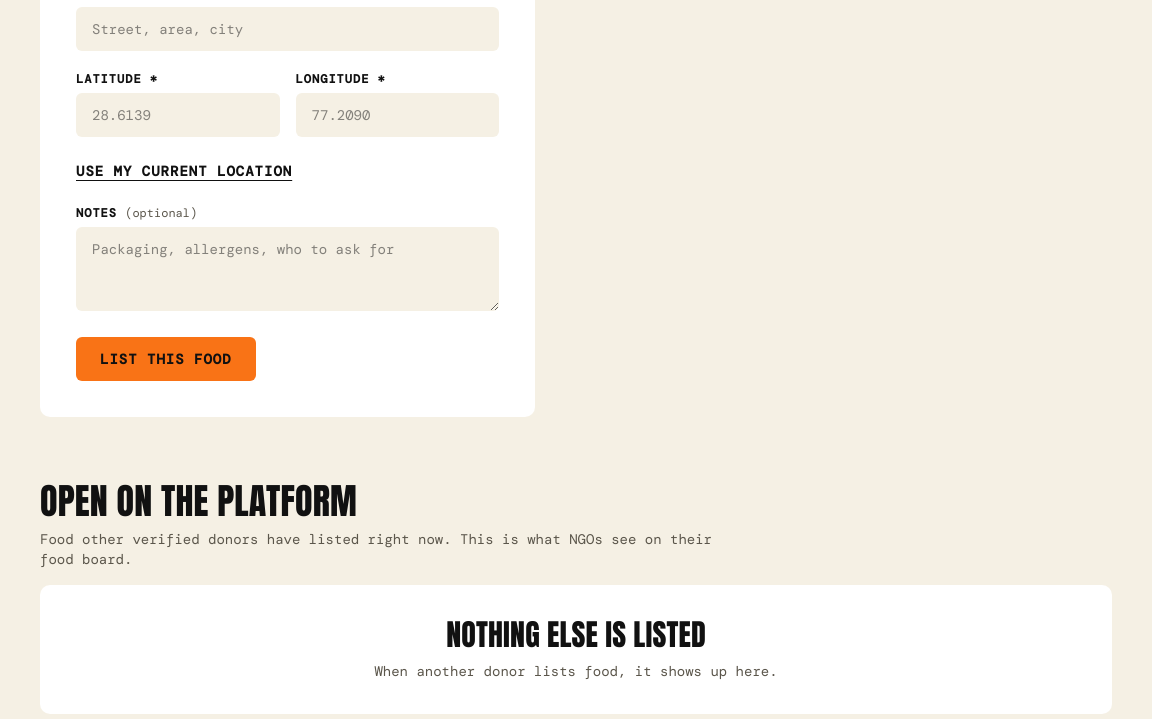
Test: creating a listing › blocks submission and explains what is missing
(page scrolled)
Click the button "List this food". click: x=166, y=359
box: [76,337,256,381]
(page scrolled)
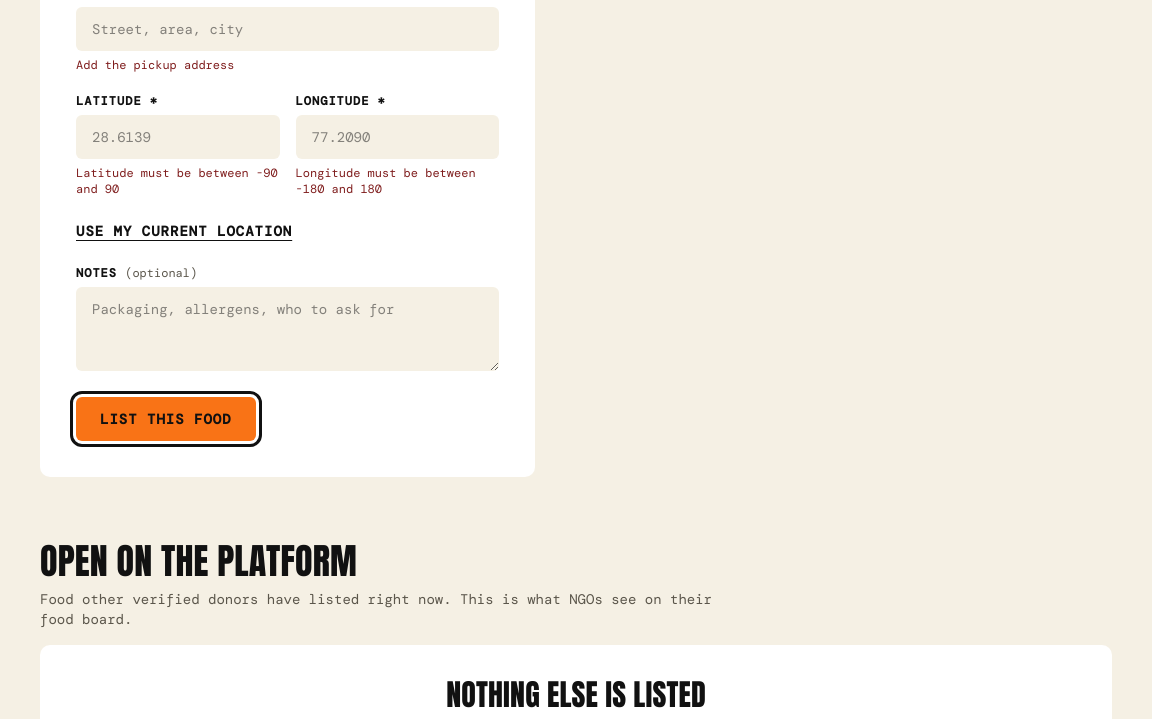
Now the text "Latitude must be between -90 and 90" is shown, box [76,165,280,197]
